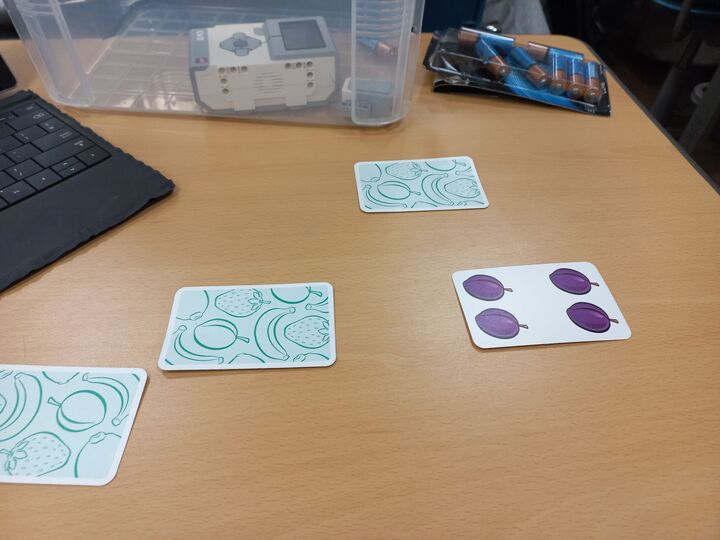plum4: (449, 260, 634, 352)
